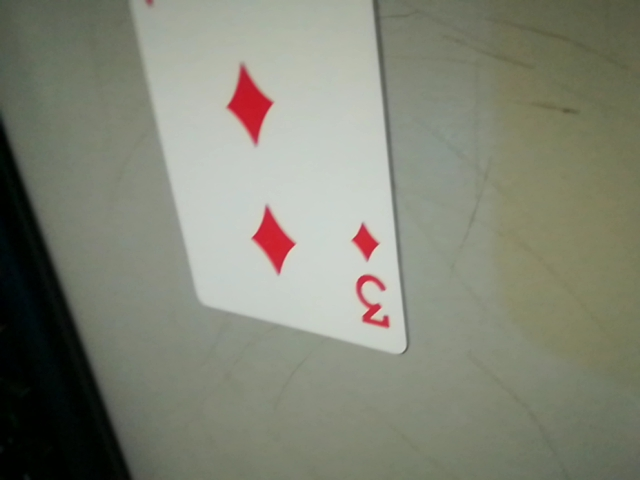fk 3: (340, 215, 397, 342)
